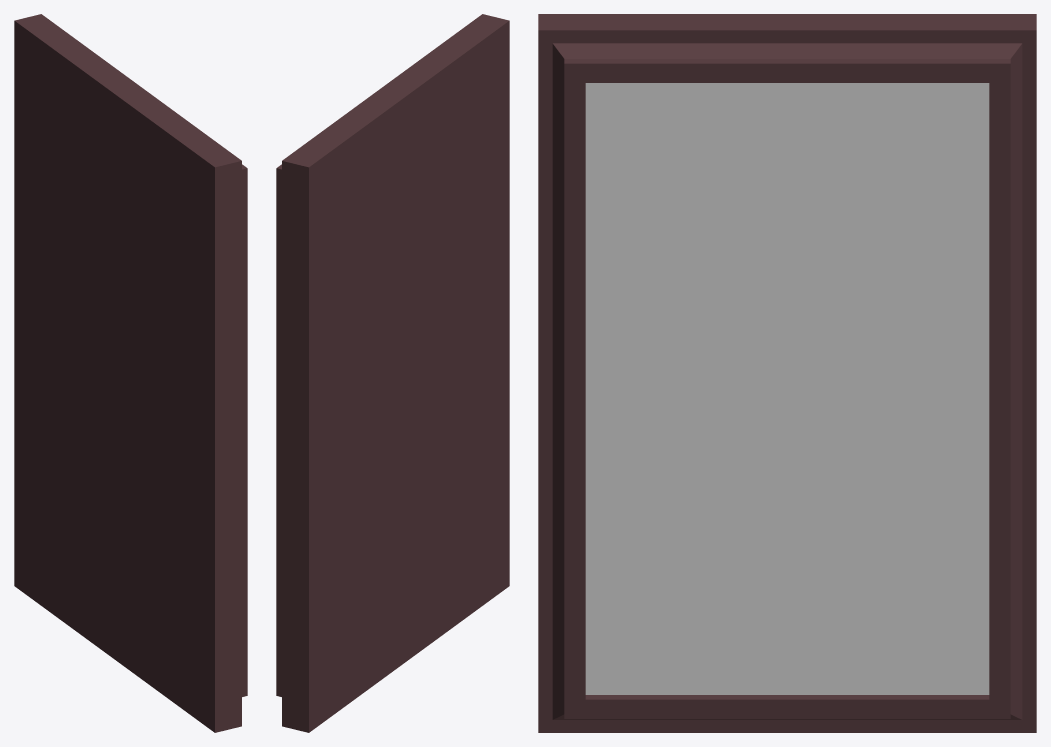
File: mirror.fbx
3 renders of one model, left to right at view 1: azimuth 30°, elevation 25°; view 2: azimuth 150°, elevation 25°; view 3: azimuth 270°, elevation 25°, orthographic. The views are drawn at different scales.
Parts seen in each view (by area): view 1: Cube.004; view 2: Cube.004; view 3: Cube.004.
Part boxes in pixels (x1,y1,x2,y2): Cube.004: (14, 14, 247, 732); Cube.004: (276, 14, 509, 732); Cube.004: (538, 14, 1036, 732).
Size of the model in its own units: 0.2229 by 2.8 by 1.8.
